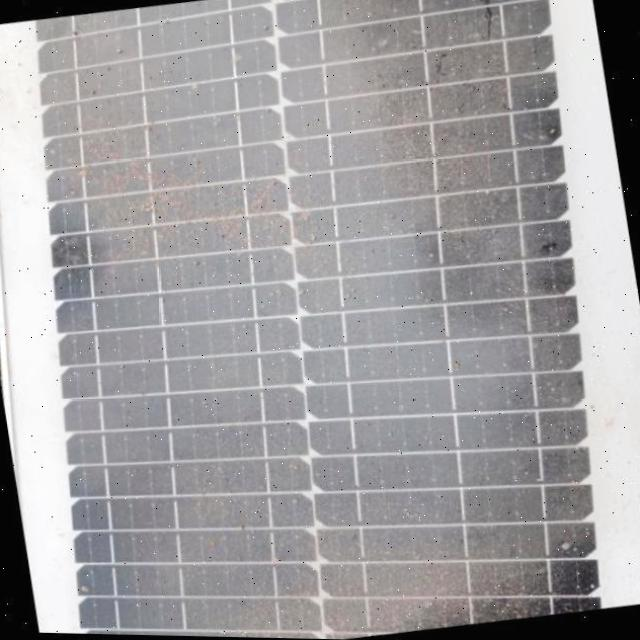Anomaly Solar Panel: (6, 0, 640, 640)
Surface Contaminant: (6, 0, 640, 640)
